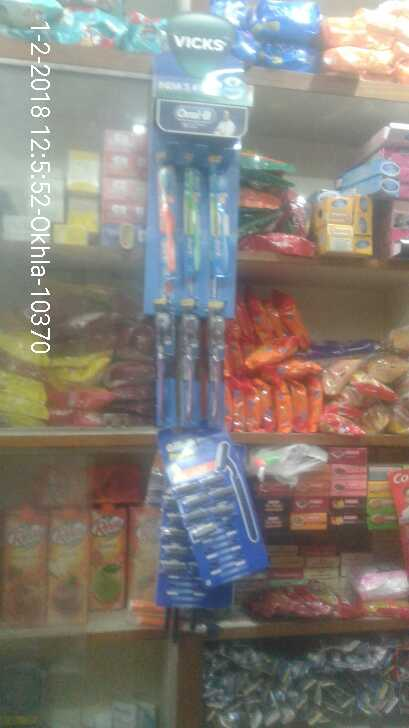pharmacy: (149, 457, 260, 611), (149, 165, 178, 312), (209, 158, 237, 305), (183, 159, 206, 307), (208, 311, 236, 422), (176, 306, 200, 422), (153, 310, 174, 425)
